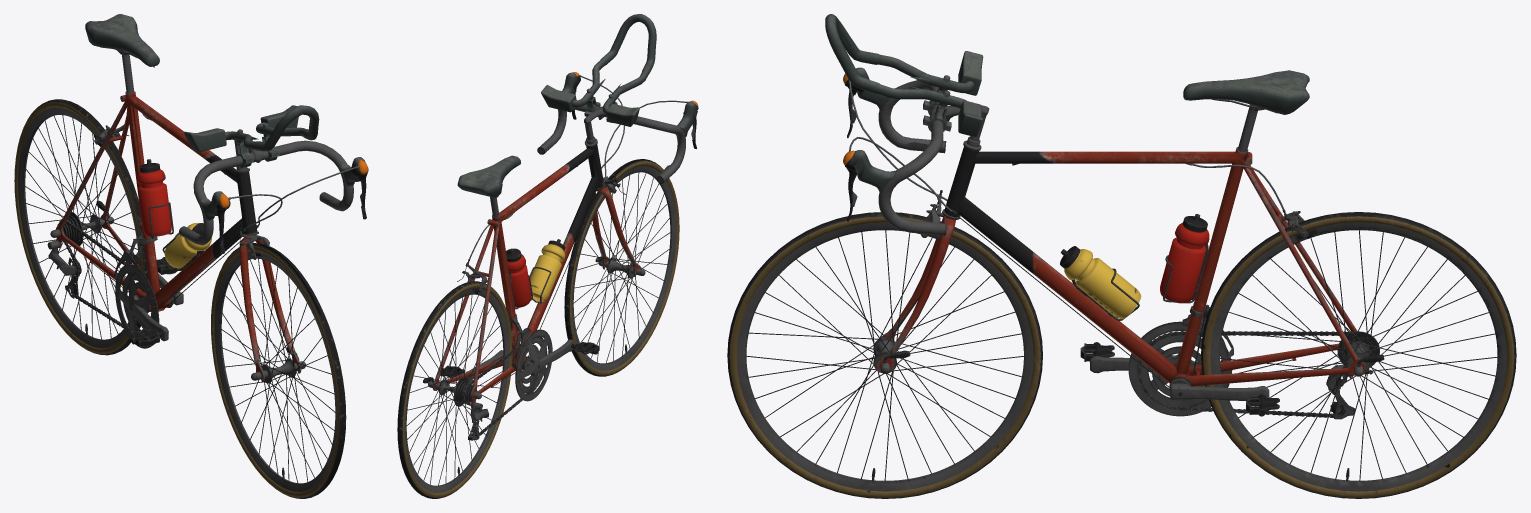
File: racing-bicycle.obj
The picture shows the model from 3 angles, left to right: view 1: azimuth 30°, elevation 25°; view 2: azimuth 150°, elevation 25°; view 3: azimuth 270°, elevation 25°; orthographic projection. The views are drawn at different scales.
Parts seen in each view (by area): view 1: BiciCorsa_A1; view 2: BiciCorsa_A1; view 3: BiciCorsa_A1.
Boxes of the visible parts, x1,y1,x2,y2 form: BiciCorsa_A1: (14, 14, 368, 498); BiciCorsa_A1: (397, 14, 698, 498); BiciCorsa_A1: (727, 14, 1516, 498).
Bounding box in the file's own units: 44.39 × 113 × 168.
Materials: 1 (1 with a texture image).
